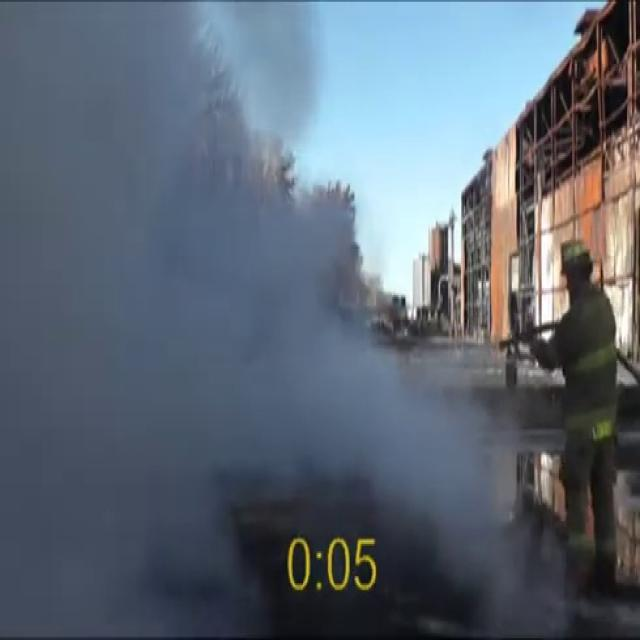Smoke: (2, 2, 534, 630)
